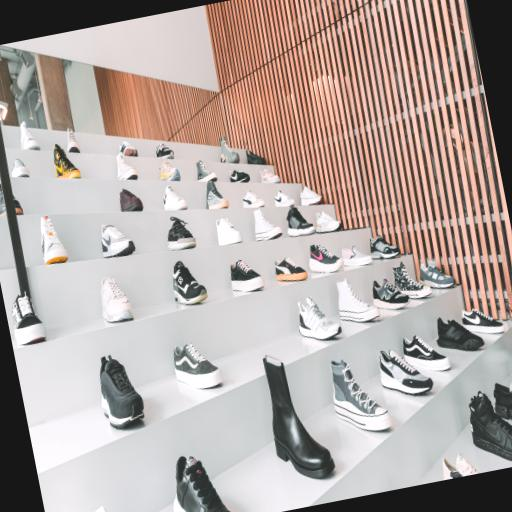shoe: (263, 356, 334, 478), (331, 361, 391, 431), (99, 356, 143, 428), (173, 457, 228, 511), (469, 392, 511, 461), (380, 350, 432, 395), (173, 344, 221, 388), (298, 298, 341, 340), (337, 279, 378, 322), (12, 295, 45, 345), (402, 336, 449, 371), (436, 318, 483, 351), (172, 261, 206, 304), (100, 278, 132, 322), (393, 262, 431, 299), (40, 217, 67, 264), (372, 279, 408, 310), (101, 225, 134, 258), (230, 260, 264, 292), (419, 259, 454, 288), (461, 309, 503, 333), (308, 245, 342, 273), (53, 144, 80, 179), (167, 217, 195, 250), (442, 454, 478, 479), (286, 206, 314, 237), (254, 210, 281, 241), (274, 258, 306, 281), (216, 218, 242, 246), (369, 235, 399, 259), (205, 181, 228, 209), (493, 384, 511, 419), (341, 246, 371, 266), (163, 186, 187, 211), (116, 153, 137, 180), (20, 122, 39, 150), (119, 189, 142, 212), (315, 212, 340, 233), (219, 137, 239, 163), (196, 161, 216, 181), (300, 187, 322, 205), (159, 162, 179, 181), (242, 190, 263, 208), (274, 191, 294, 207), (66, 129, 79, 153), (11, 159, 28, 177), (246, 150, 265, 165), (229, 169, 249, 183), (156, 143, 173, 159), (119, 141, 137, 156), (260, 169, 279, 183), (0, 185, 6, 216), (95, 507, 106, 511)
